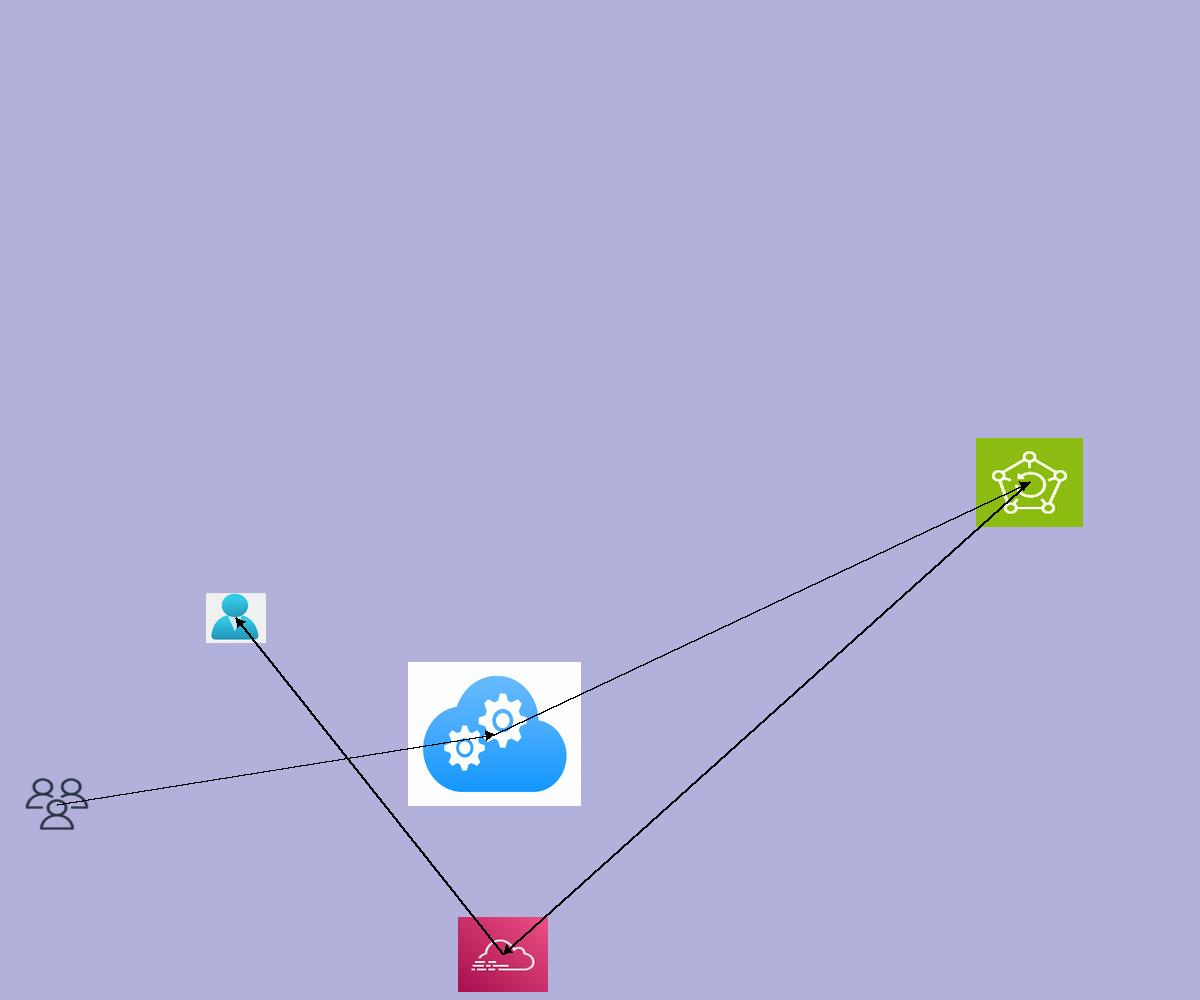AWS-Backup: (976, 438, 1083, 527)
AWS-CloudTrail: (458, 917, 548, 992)
AWS-Res_Users: (23, 776, 91, 832)
Azure_cloud_services: (408, 662, 581, 806)
Azure_users: (206, 593, 266, 643)
